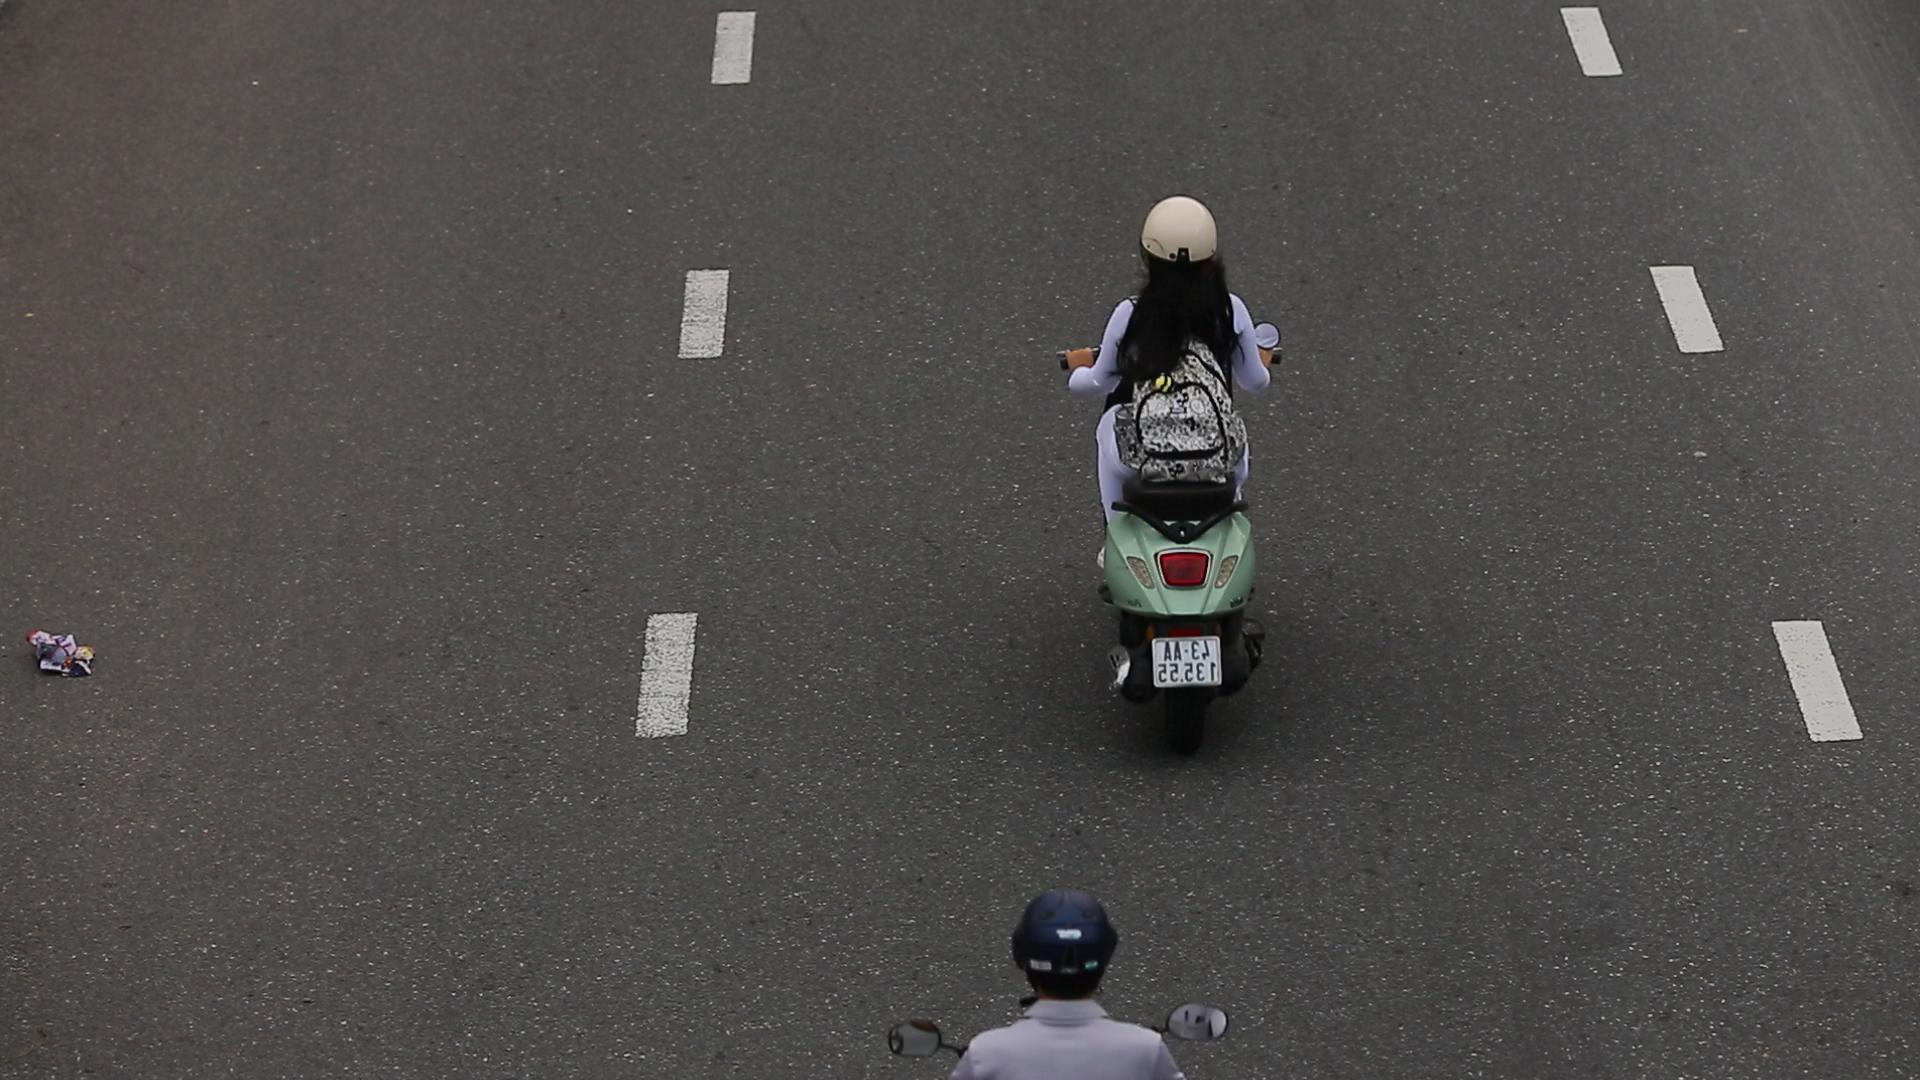motobike: (1058, 189, 1298, 741)
